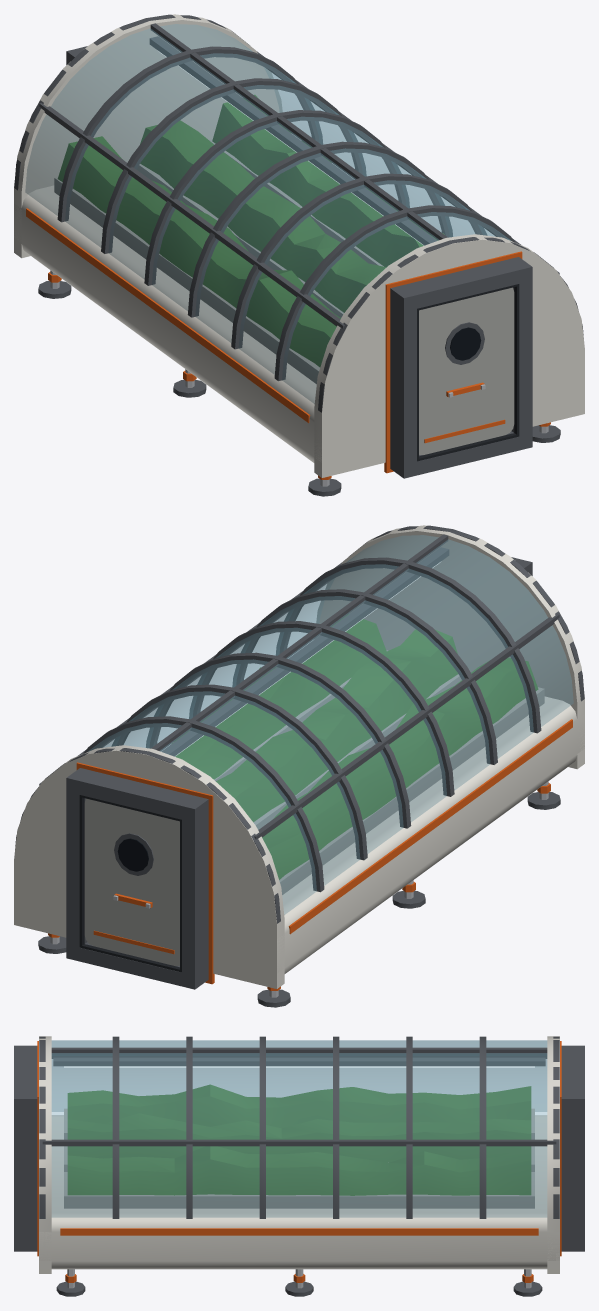
File: greenhouse.glb
3 renders of one model, top to bottom at view 1: azimuth 30°, elevation 25°; view 2: azimuth 150°, elevation 25°; view 3: azimuth 270°, elevation 25°, orthographic. The views are drawn at different scales.
Visible parts, largest first — view 1: body, hatch_n; view 2: body, hatch_s; view 3: body.
Boxes of the visible parts, x1,y1,x2,y2 form: body: (14, 14, 584, 496); hatch_n: (419, 287, 514, 454); body: (14, 525, 584, 1007); hatch_s: (84, 798, 179, 965); body: (14, 1036, 584, 1296).
Size of the model in its own units: 3.62 by 3.05 by 8.
